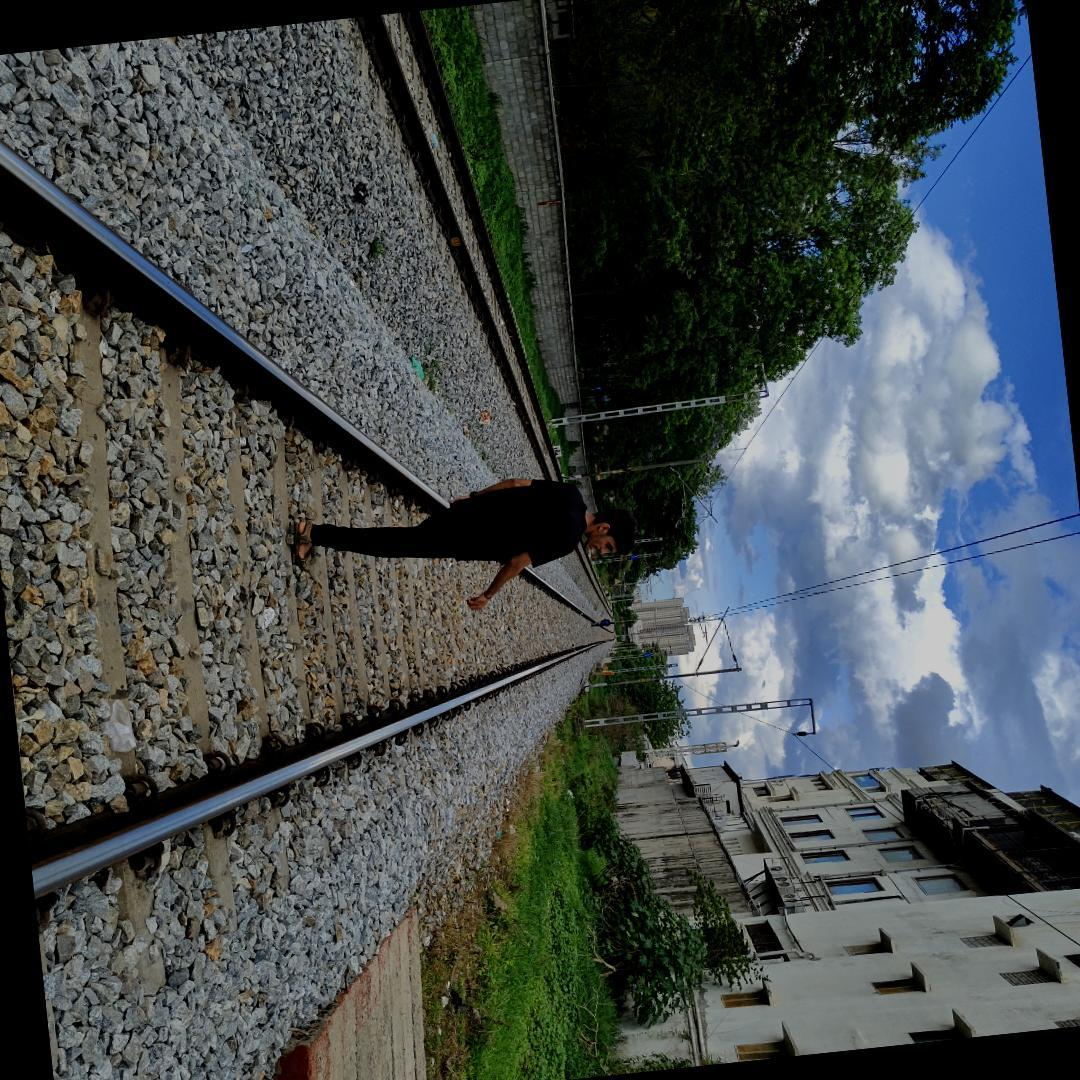standing: (272, 456, 650, 624)
